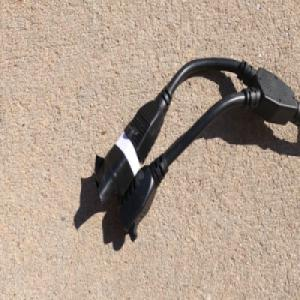Wire: (93, 56, 300, 244)
